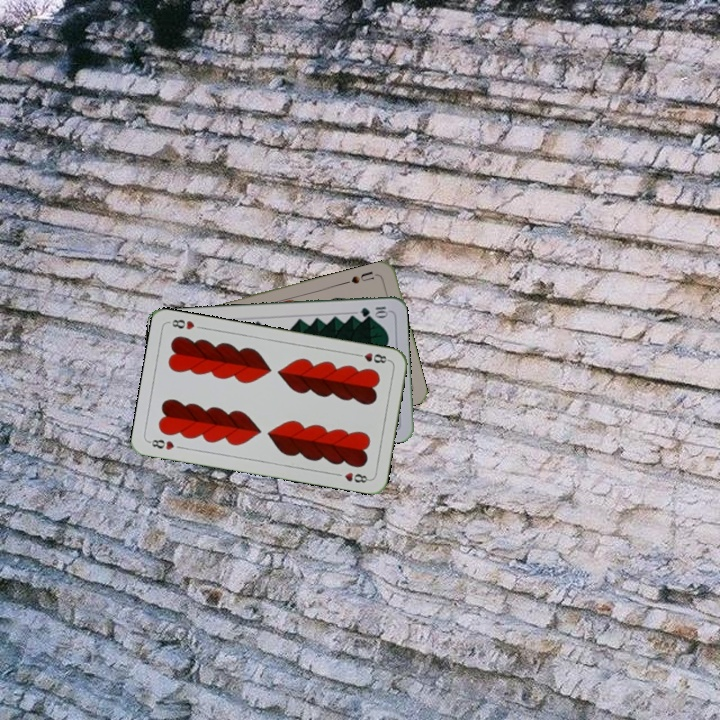G10: (357, 302, 391, 319)
H8: (352, 349, 392, 366), (145, 435, 177, 453)
SU: (347, 267, 376, 286)
